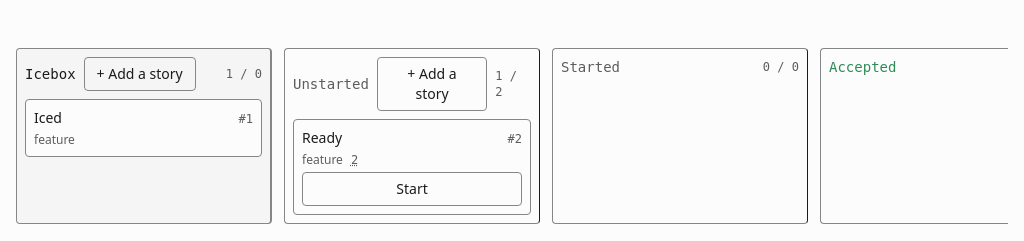
Scenario: BoardPage › surfaces a rejected move and puts the card back
Click the button "Start": (412, 189) x1=302 y1=172 x2=522 y2=206
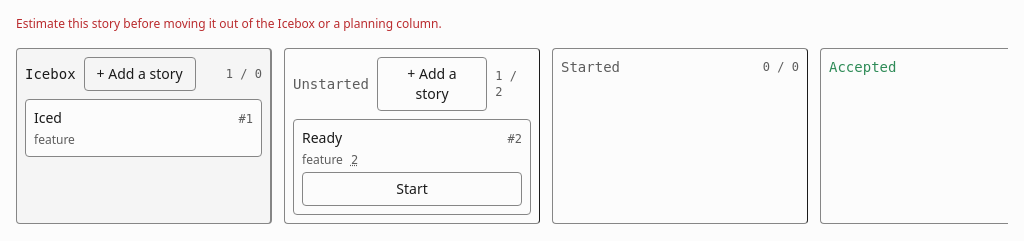
Check: the text with test id "column-todo-count" reads "1", box x1=495 y1=69 x2=502 y2=83
Check: the message shows "Estimate", box x1=16 y1=15 x2=442 y2=32
